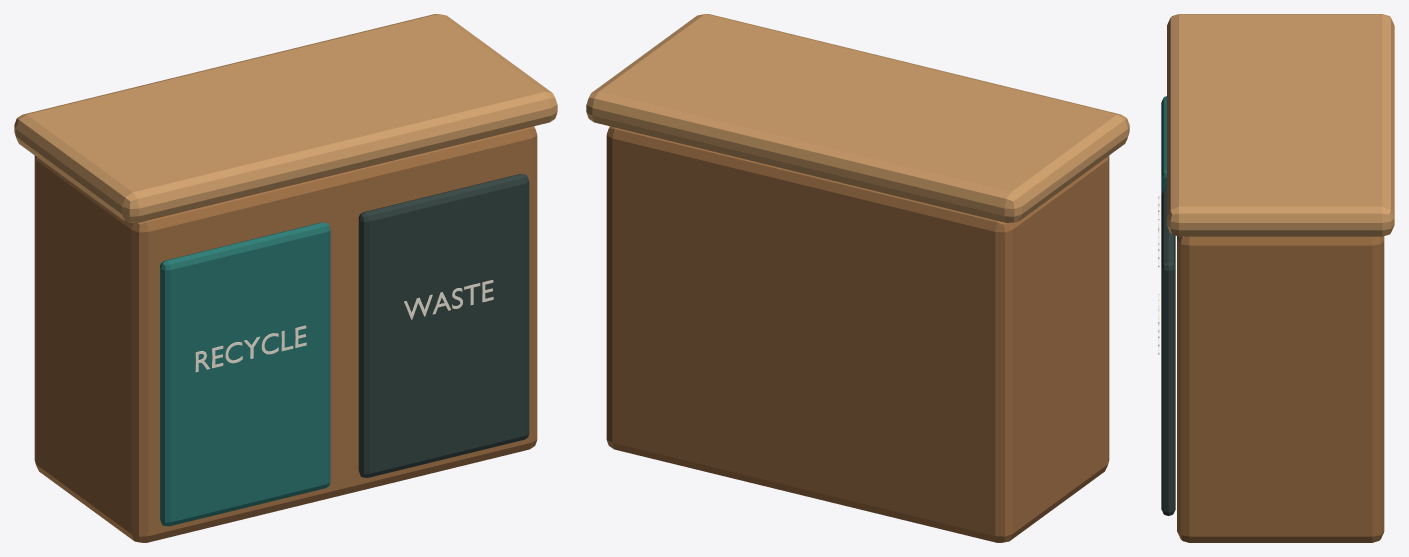
Rendered from recycling-station.glb.
3 renders of one model, left to right at view 1: azimuth 30°, elevation 25°; view 2: azimuth 150°, elevation 25°; view 3: azimuth 270°, elevation 25°, orthographic. The views are drawn at different scales.
Parts seen in each view (by area): view 1: recycling_station_batched; view 2: recycling_station_batched; view 3: recycling_station_batched.
Boxes of the visible parts, left/top/right/bottom form: recycling_station_batched: left=14, top=14, right=557, bottom=542; recycling_station_batched: left=586, top=14, right=1129, bottom=542; recycling_station_batched: left=1158, top=14, right=1394, bottom=542.
Size of the model in its own units: 1.18 by 0.93 by 0.581.
